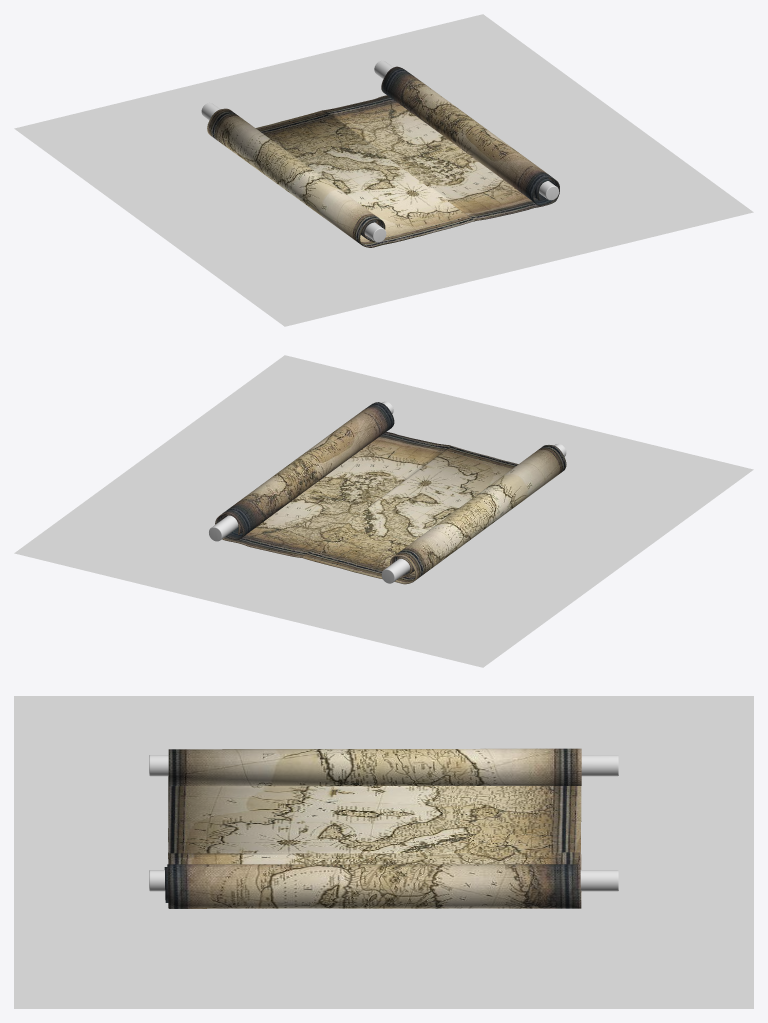
File: Map.fbx
The picture shows the model from 3 angles, top to bottom: view 1: azimuth 30°, elevation 25°; view 2: azimuth 150°, elevation 25°; view 3: azimuth 270°, elevation 25°; orthographic projection. The views are drawn at different scales.
Visible parts, largest first — view 1: Plane, BezierCurve; view 2: Plane, BezierCurve, Cylinder.001, Cylinder; view 3: Plane, BezierCurve, Cylinder, Cylinder.001.
Boxes of the visible parts, x1,y1,x2,y2 form: Plane: (14,14,753,326); BezierCurve: (207,66,559,247); Plane: (14,355,753,667); BezierCurve: (215,402,566,584); Cylinder.001: (209,401,393,541); Cylinder: (381,443,566,583); Plane: (14,696,753,1008); BezierCurve: (164,748,581,908); Cylinder: (149,755,618,776); Cylinder.001: (149,870,618,891).
Bounding box in the file's own units: 694 × 43.49 × 694.
1 material, 1 textured.
